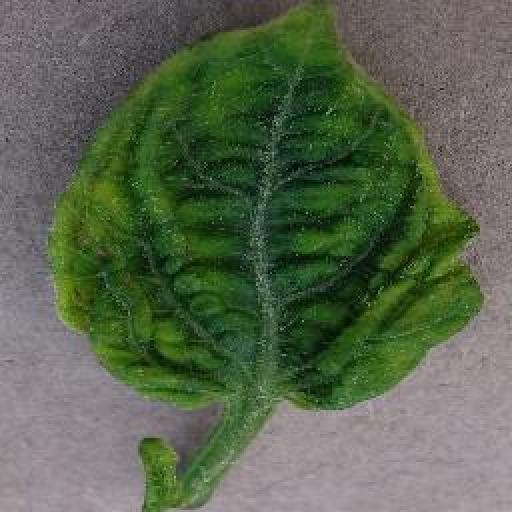disease_tomato: (45, 0, 484, 412)
